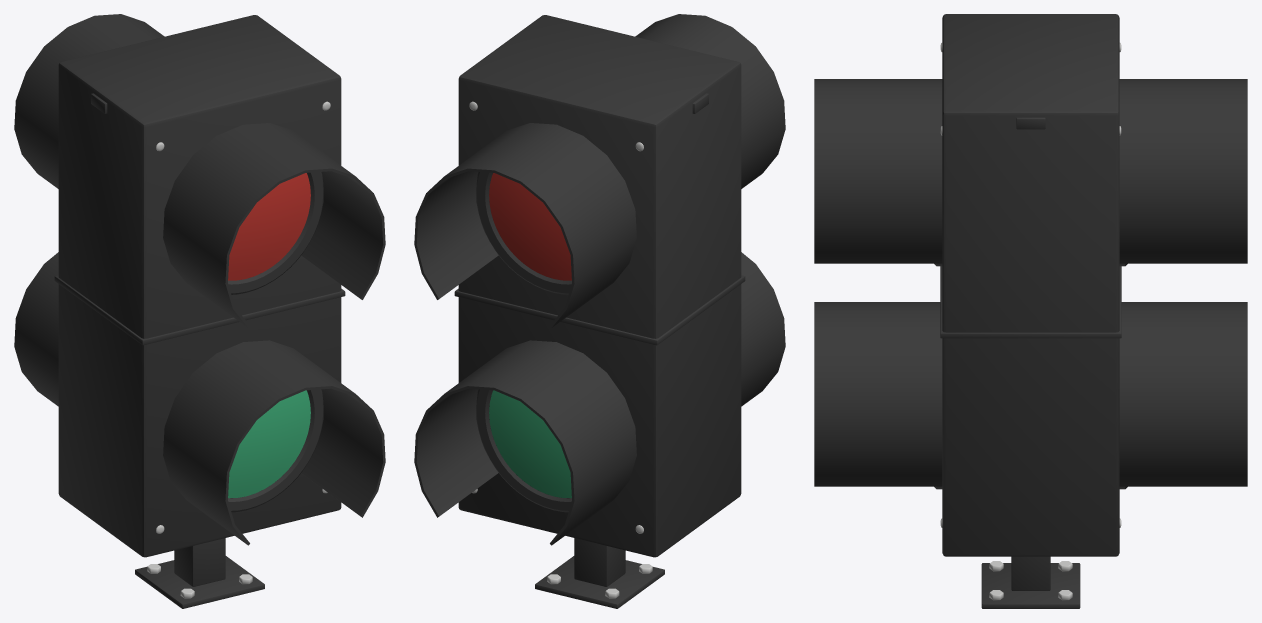
The model's file is Kit_SlideTrafficLight.fbx.
3 views of the same model, side by side, from view 1: azimuth 30°, elevation 25°; view 2: azimuth 150°, elevation 25°; view 3: azimuth 270°, elevation 25° (orthographic). The views are drawn at different scales.
Parts seen in each view (by area): view 1: Kit_SlideTrafficLight_LOD0; view 2: Kit_SlideTrafficLight_LOD0; view 3: Kit_SlideTrafficLight_LOD0.
Boxes of the visible parts, x1,y1,x2,y2 form: Kit_SlideTrafficLight_LOD0: (14, 14, 385, 608); Kit_SlideTrafficLight_LOD0: (414, 14, 785, 608); Kit_SlideTrafficLight_LOD0: (814, 14, 1247, 608).
Size of what is drawn, in the model's own units: 0.246 by 0.59 by 0.44.
